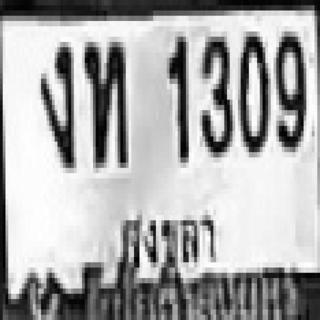A07: (38, 39, 74, 165)
A23: (82, 37, 126, 163)
N00: (238, 26, 268, 152)
N01: (167, 34, 186, 160)
N03: (200, 31, 230, 152)
N09: (274, 26, 304, 147)
P64: (115, 205, 219, 275)
